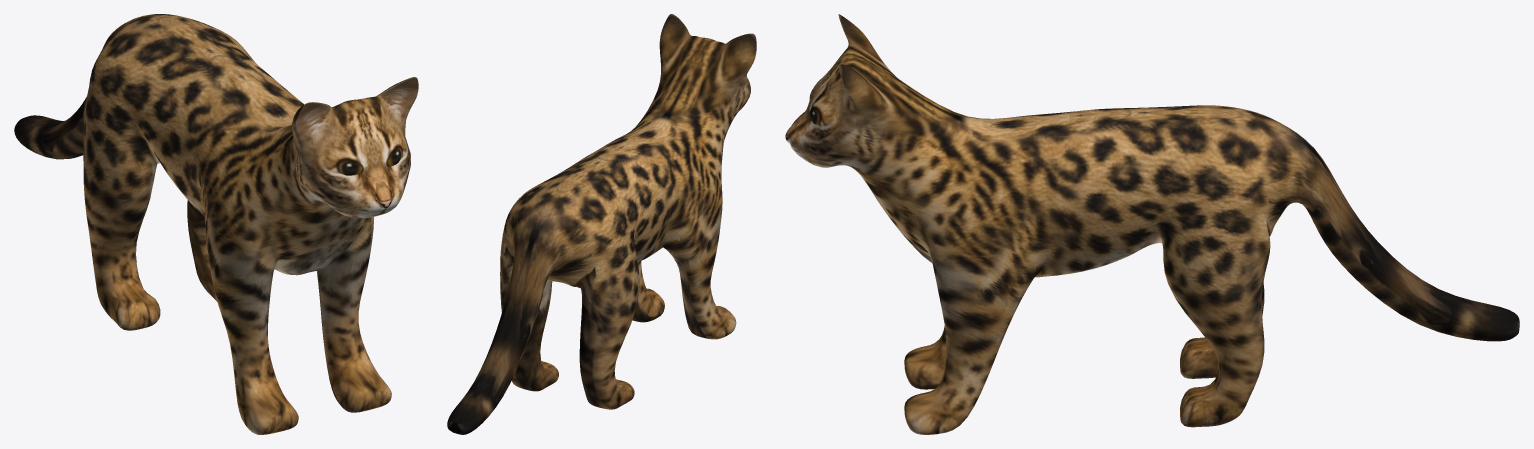
The model's file is 15_Prionailurus bengalensis(แมวดาว).fbx.
The picture shows the model from 3 angles, left to right: view 1: azimuth 30°, elevation 25°; view 2: azimuth 150°, elevation 25°; view 3: azimuth 270°, elevation 25°; orthographic projection. The views are drawn at different scales.
Visible parts, largest first — view 1: Cube.001, Cube.002, Cube.003; view 2: Cube.001; view 3: Cube.001.
Part boxes in pixels (<box>): Cube.001: <box>14,14,418,434</box>; Cube.002: <box>332,142,402,175</box>; Cube.003: <box>374,181,392,209</box>; Cube.001: <box>447,14,756,434</box>; Cube.001: <box>789,14,1519,434</box>.
Bounding box in the file's own units: 205 × 429 × 783.
Materials: 1 (1 with a texture image).
